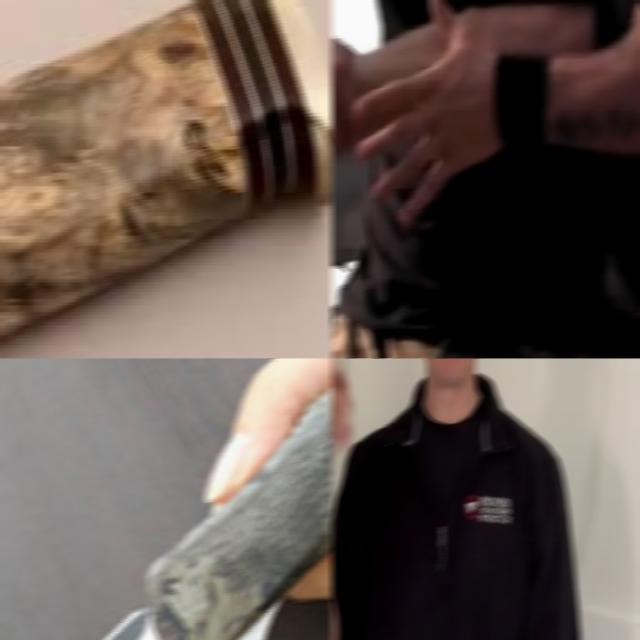Knife_Handle: (0, 358, 333, 640), (331, 358, 356, 623)
